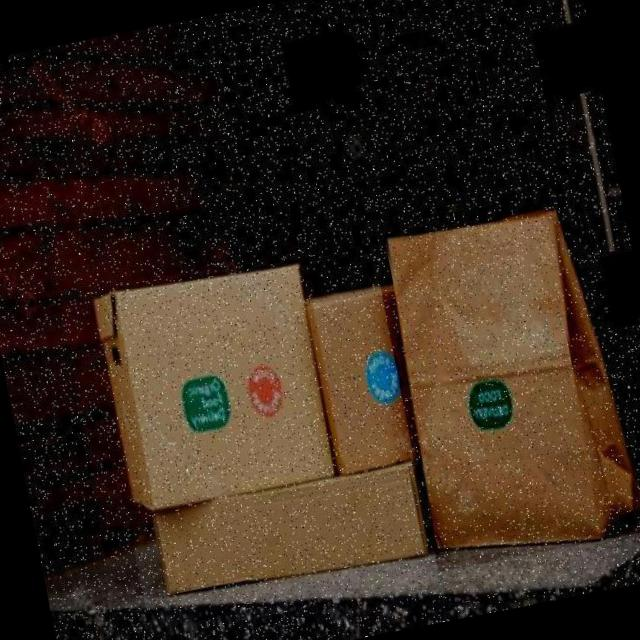box: (369, 187, 640, 572), (59, 250, 342, 529), (284, 201, 518, 483), (126, 447, 441, 638)
